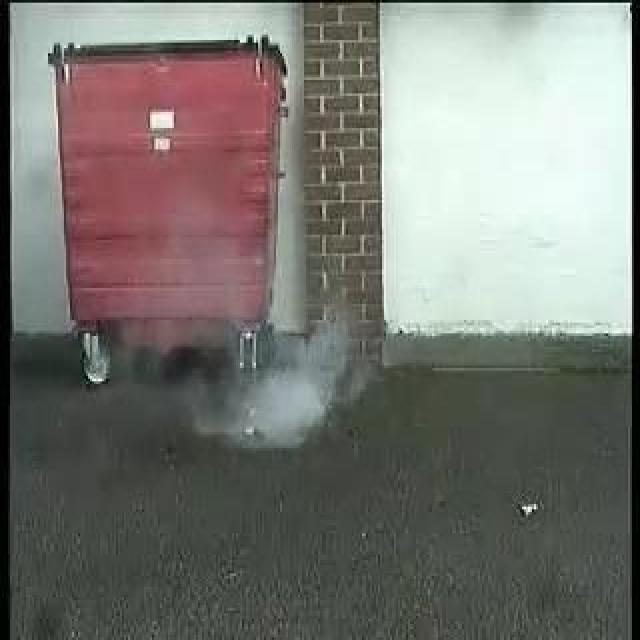Smoke: (229, 352, 331, 448)
